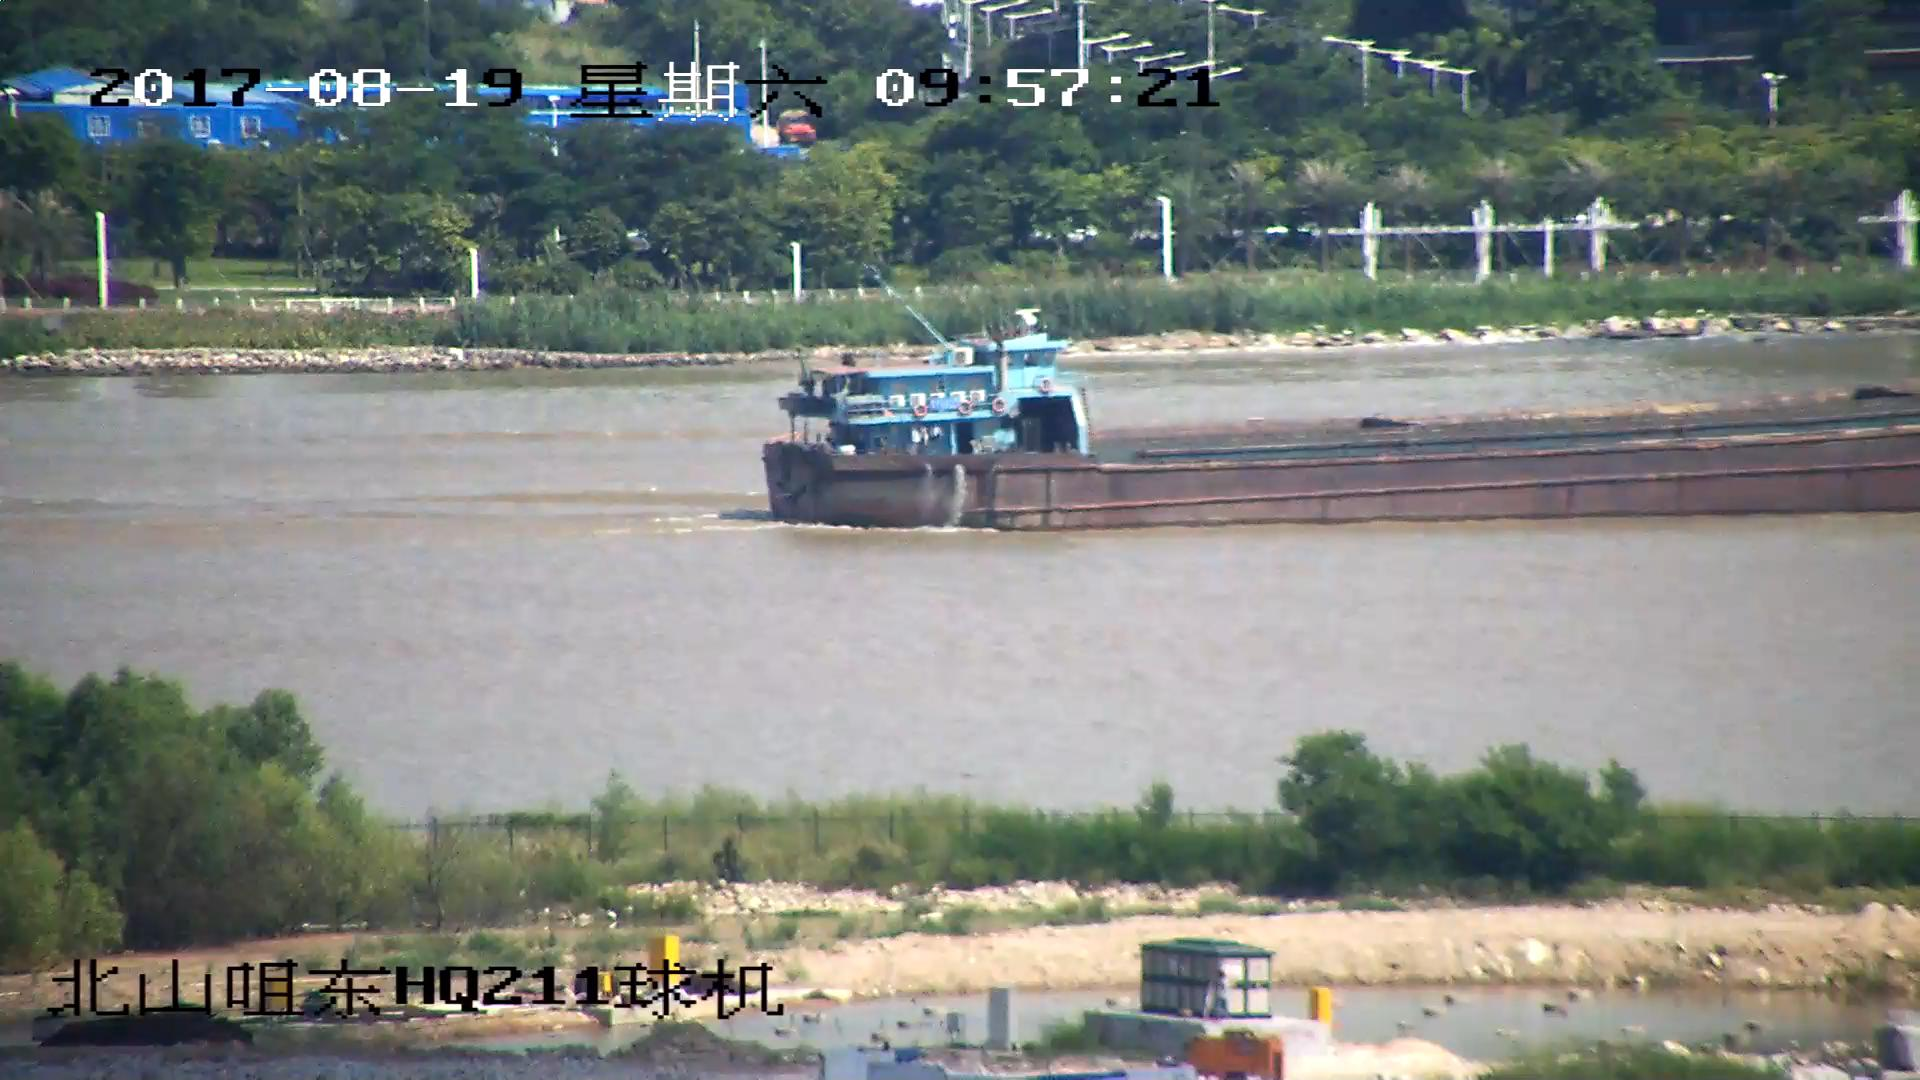bulk cargo carrier: (761, 324, 1920, 529)
